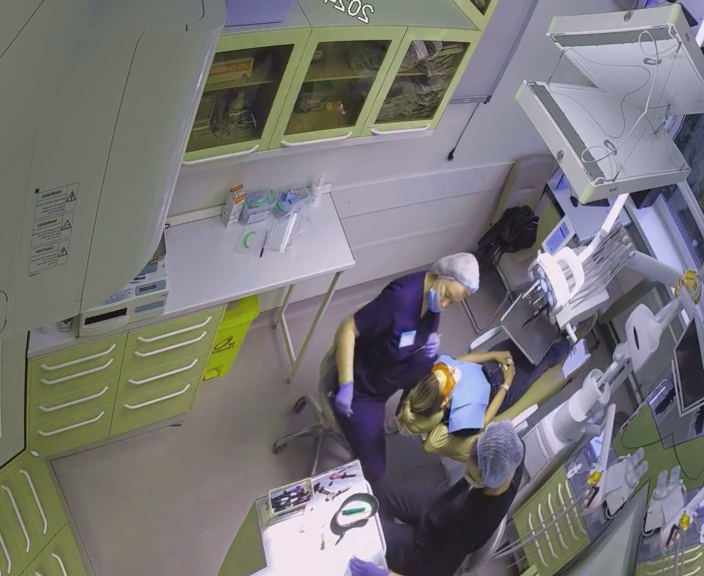Patient: (381, 254, 617, 501)
